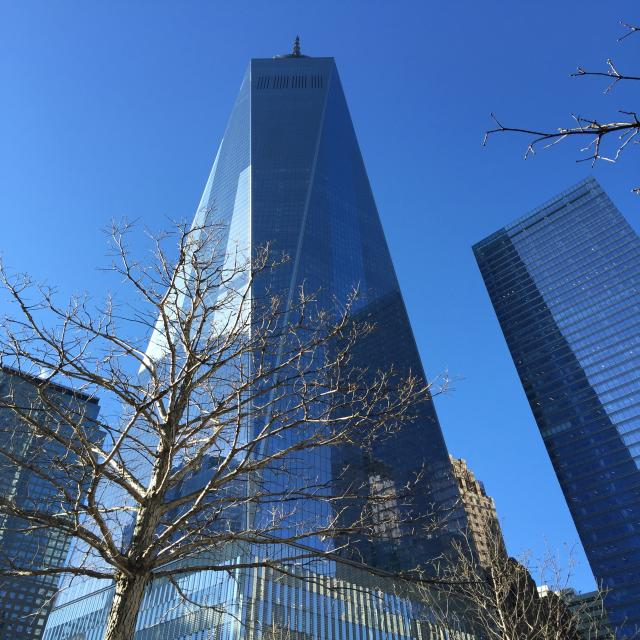WTC: (31, 31, 512, 640)
